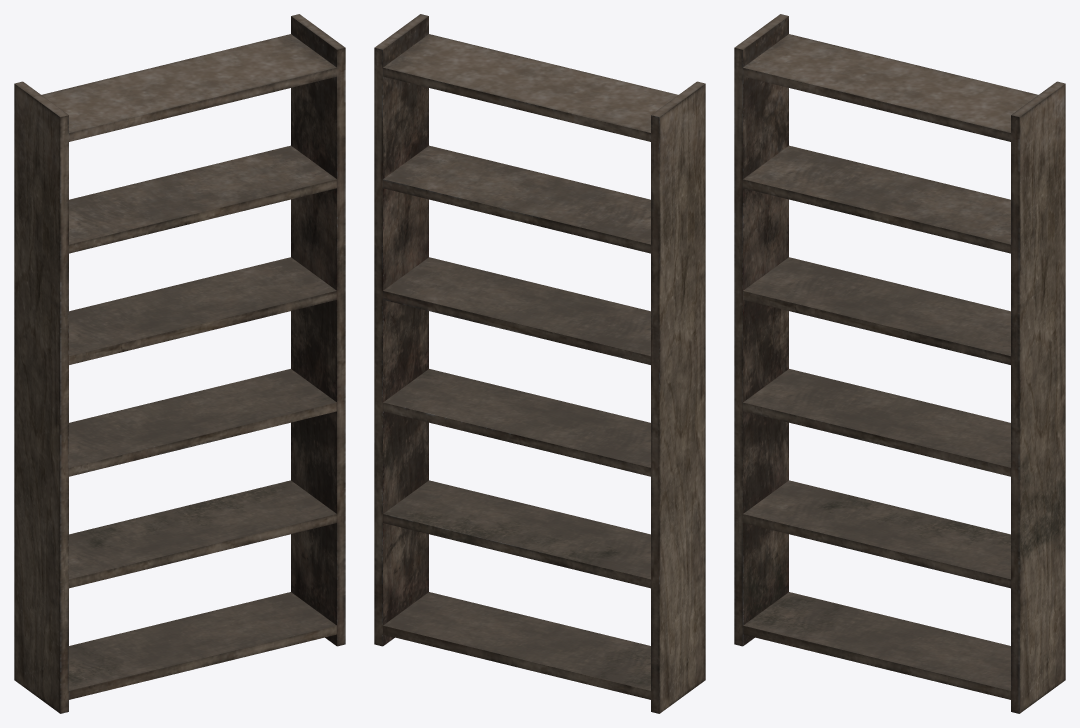
3 views of the same model, side by side, from view 1: azimuth 30°, elevation 25°; view 2: azimuth 150°, elevation 25°; view 3: azimuth 330°, elevation 25° (orthographic).
Visible parts, largest first — view 1: Shelves1; view 2: Shelves1; view 3: Shelves1.
Part boxes in pixels (left/top/right/bottom): Shelves1: left=14, top=14, right=345, bottom=713; Shelves1: left=374, top=14, right=705, bottom=713; Shelves1: left=734, top=14, right=1065, bottom=713.
Size of the model in its own units: 105 by 209 by 29.3.
1 material, 1 textured.
